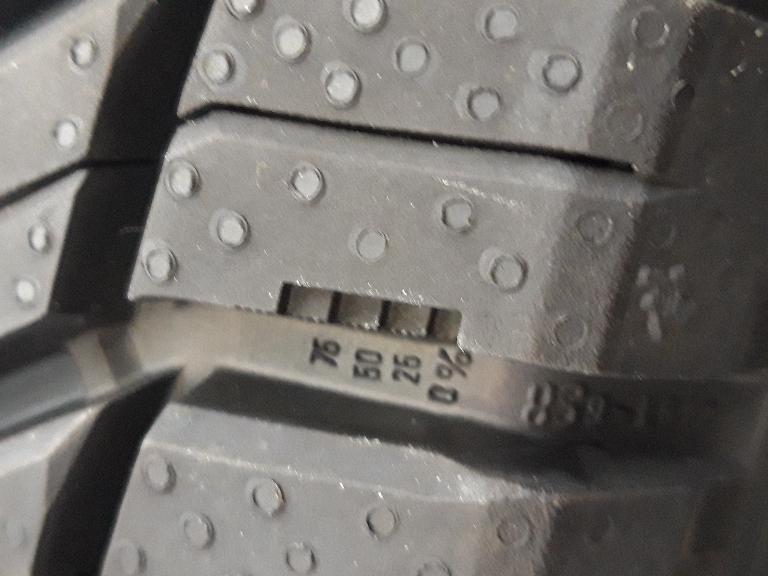temoin:100: (231, 276, 467, 354)
